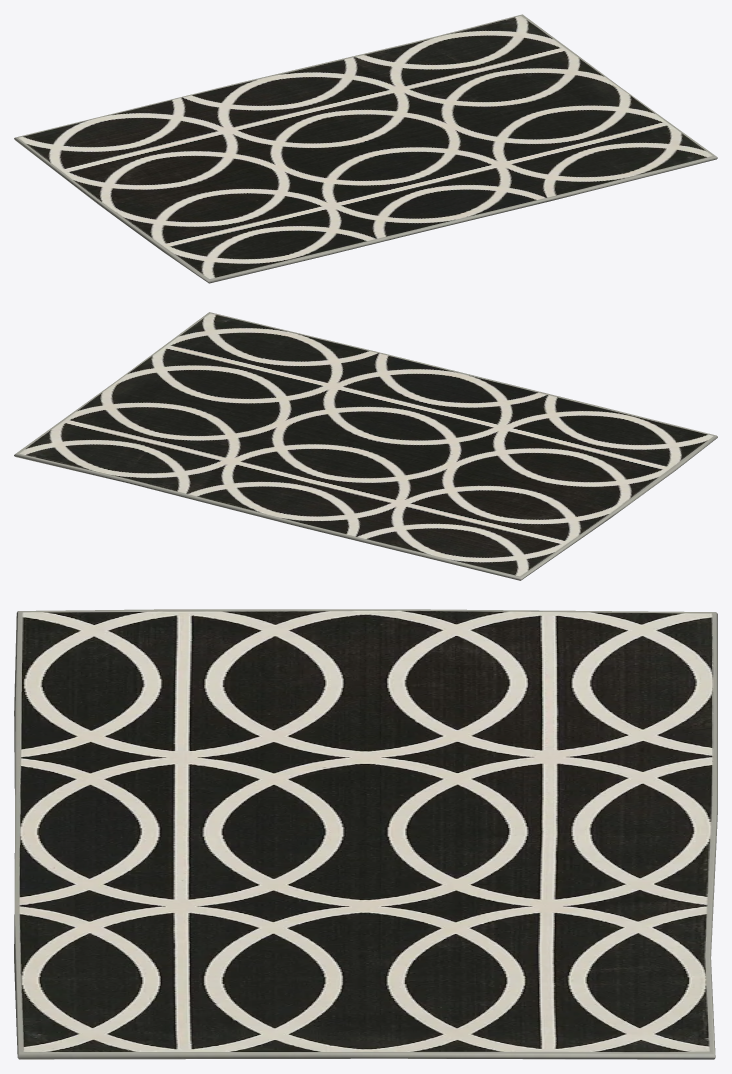
The model's file is abo-B07NXTKC72.glb.
3 renders of one model, top to bottom at view 1: azimuth 30°, elevation 25°; view 2: azimuth 150°, elevation 25°; view 3: azimuth 270°, elevation 25°, orthographic. The views are drawn at different scales.
Visible parts, largest first — view 1: RootNode; view 2: RootNode; view 3: RootNode.
Part boxes in pixels (x1,y1,x2,y2): RootNode: (14, 14, 717, 283); RootNode: (14, 312, 717, 580); RootNode: (14, 609, 717, 1059).
Size of the model in its own units: 2.29 by 0.0137 by 1.52.
1 material, 1 textured.
